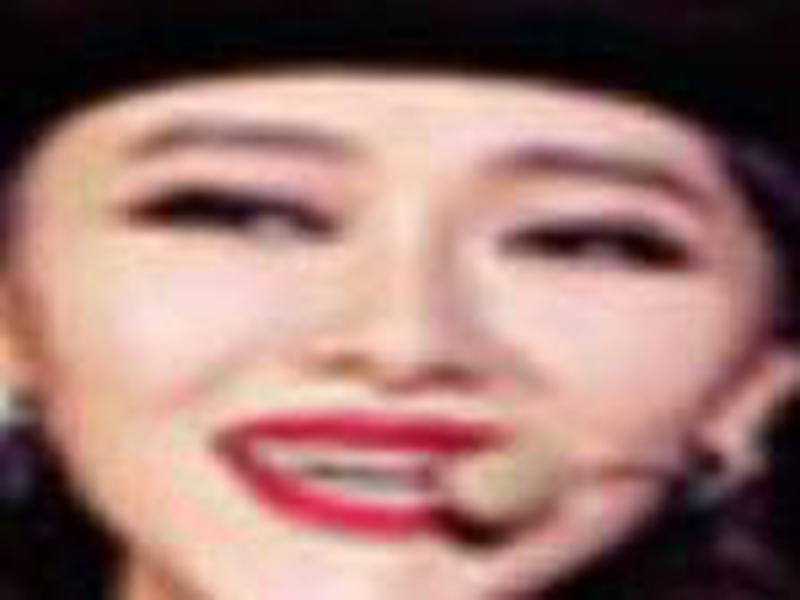without_mask: (19, 112, 761, 600)
